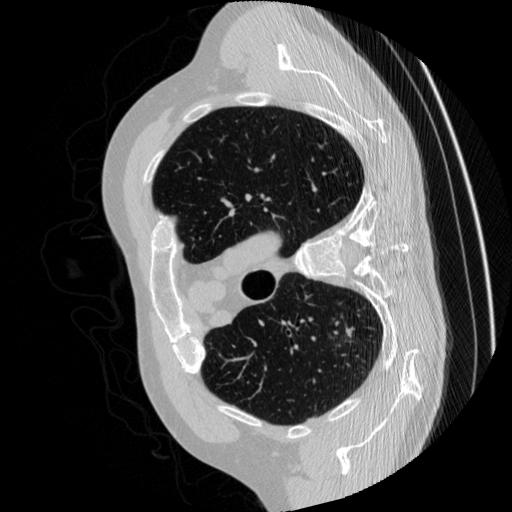nodule: (342, 325, 358, 341)
